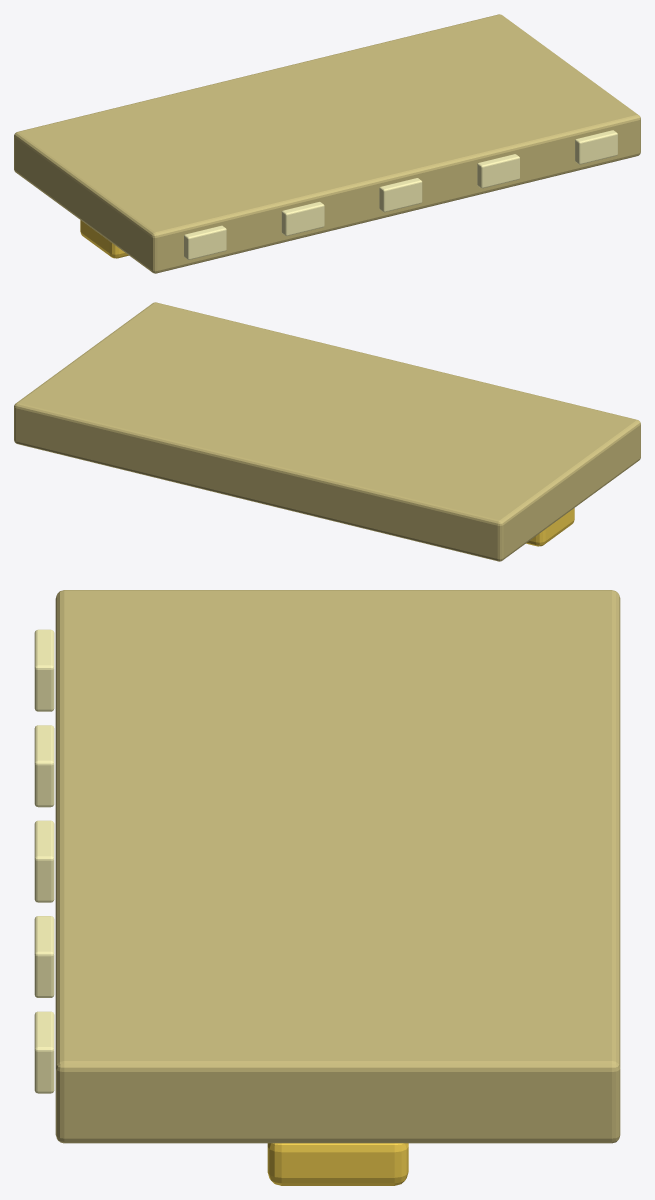
File: SM_DeckSolar.fbx
3 views of the same model, one above another, from view 1: azimuth 30°, elevation 25°; view 2: azimuth 150°, elevation 25°; view 3: azimuth 270°, elevation 25° (orthographic). The views are drawn at different scales.
Visible parts, largest first — view 1: SM_DeckSolar; view 2: SM_DeckSolar; view 3: SM_DeckSolar.
Boxes of the visible parts, left/top/right/bottom form: SM_DeckSolar: left=14, top=14, right=640, bottom=273; SM_DeckSolar: left=14, top=302, right=640, bottom=561; SM_DeckSolar: left=34, top=590, right=620, bottom=1185.
Bounding box in the file's own units: 200 × 104 × 27.
